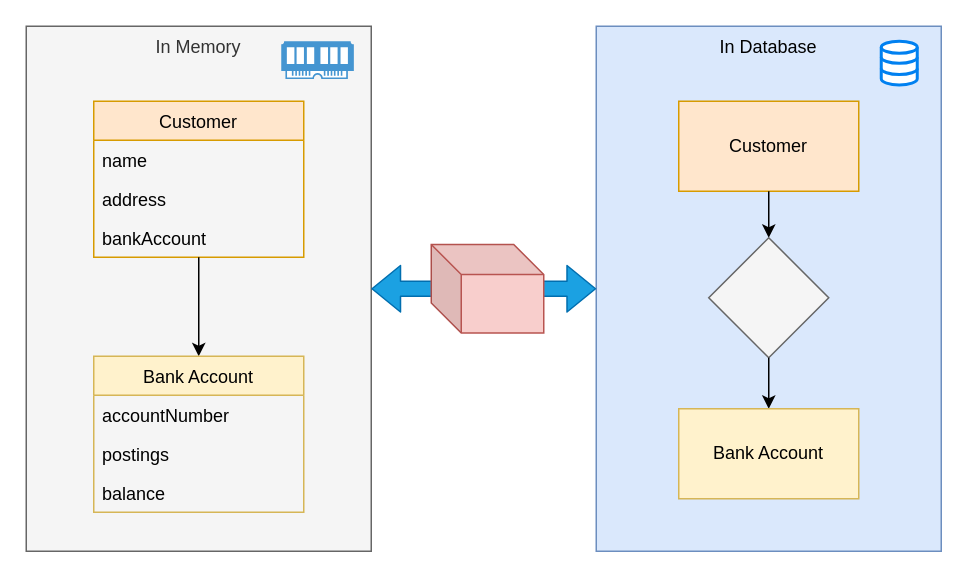
Some shapes in this 968 by 578 pixel diagram are drawn without their labels. The shapes that lost their labels are listed below. From the top down, each one's centre as x and y in pixels, then its label:
At point (487, 288): "ORM".
At point (768, 297): "owns".
